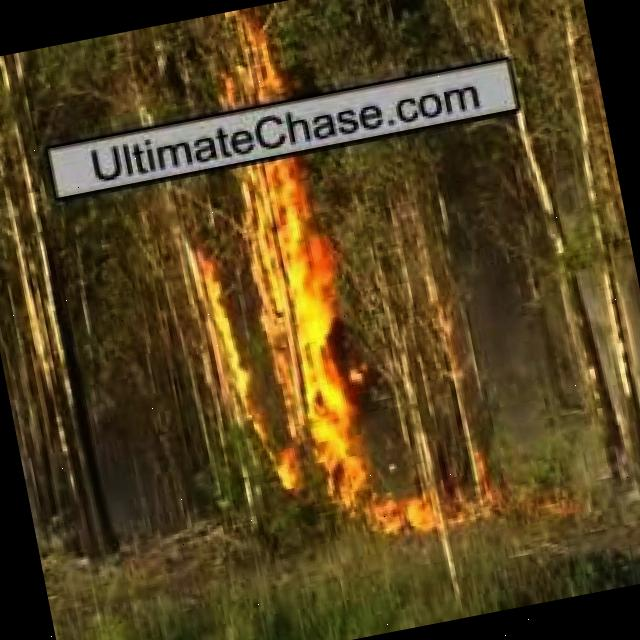fire: (234, 160, 372, 500), (178, 245, 269, 450), (344, 498, 462, 544), (226, 26, 280, 104)
